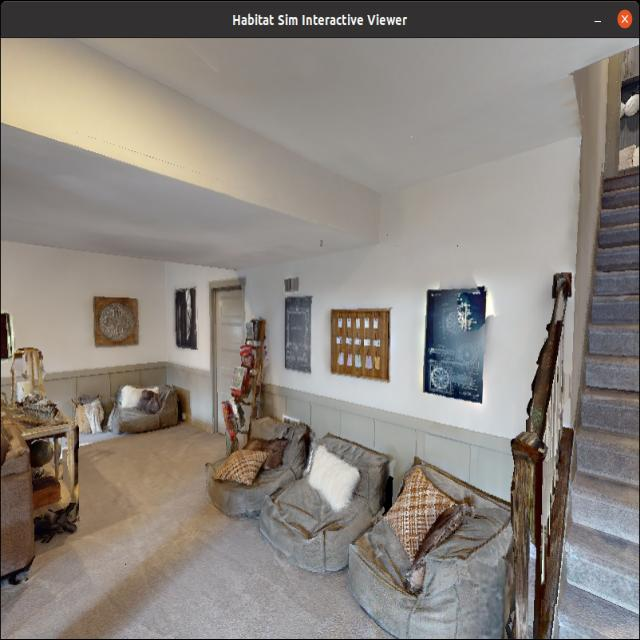sofa: (358, 427, 511, 640), (264, 418, 384, 612), (192, 397, 314, 528)
stairs: (503, 57, 640, 640)
